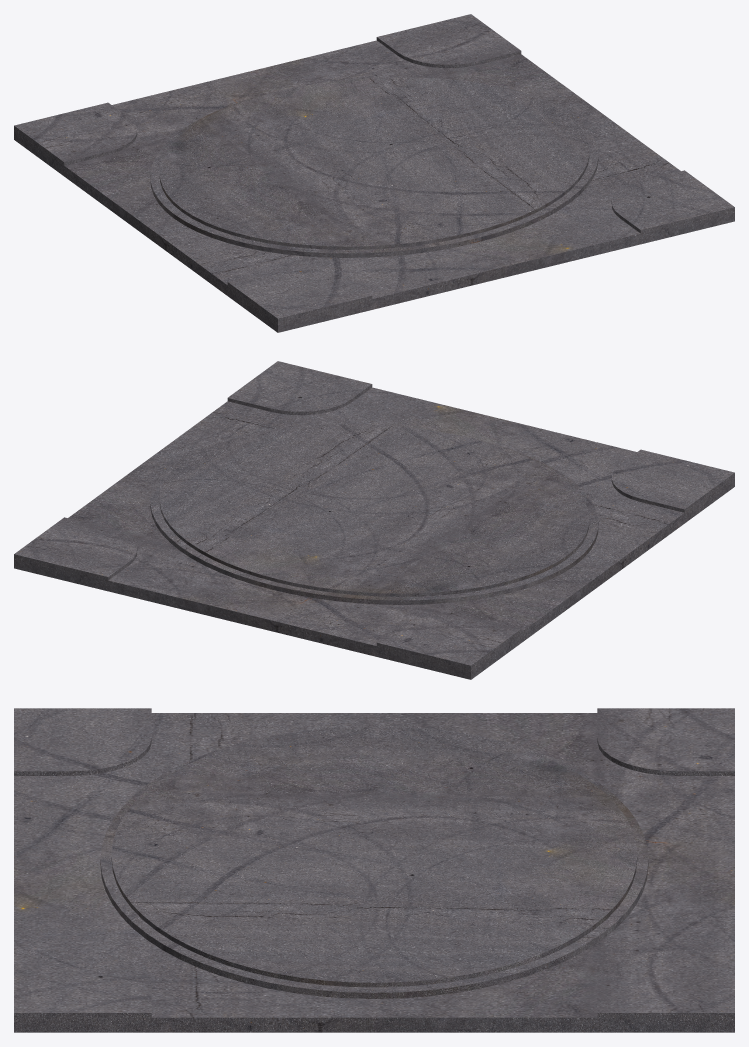
The model's file is ground.fbx.
3 views of the same model, one above another, from view 1: azimuth 30°, elevation 25°; view 2: azimuth 150°, elevation 25°; view 3: azimuth 270°, elevation 25° (orthographic). The views are drawn at different scales.
Visible parts, largest first — view 1: Ground; view 2: Ground; view 3: Ground.
Part boxes in pixels (x1=…): Ground: x1=14, y1=14, x2=734, y2=332; Ground: x1=14, y1=361, x2=734, y2=679; Ground: x1=14, y1=708, x2=734, y2=1032.
Size of the model in its own units: 6703 by 261 by 6703.
